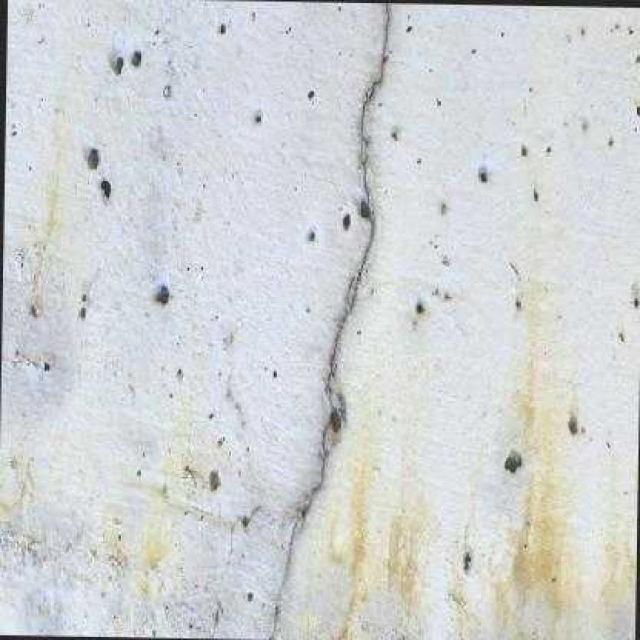D00: (266, 1, 388, 639)
